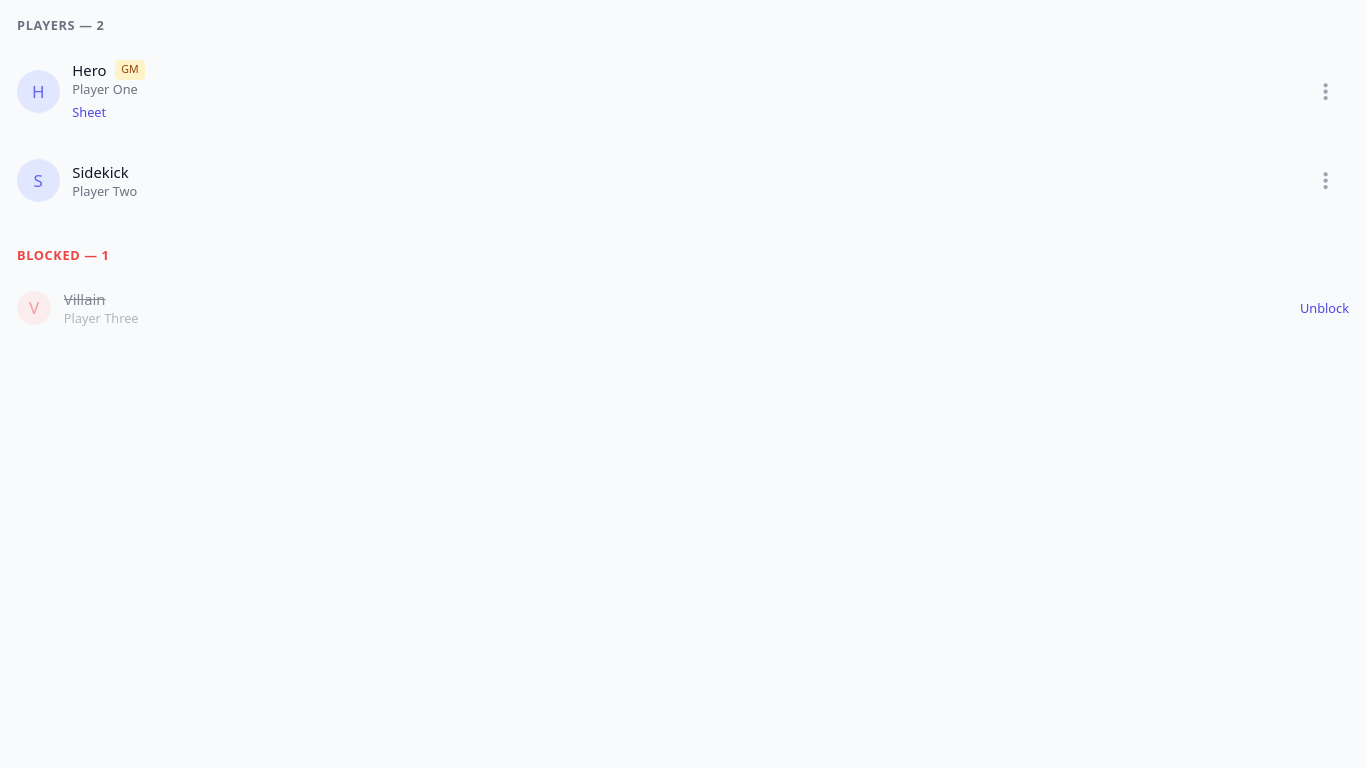
Test: MemberList › does not block when the confirmation is cancelled
Click the button with test id "menu-btn-m2" at (1326, 181), box [1302, 157, 1349, 204]
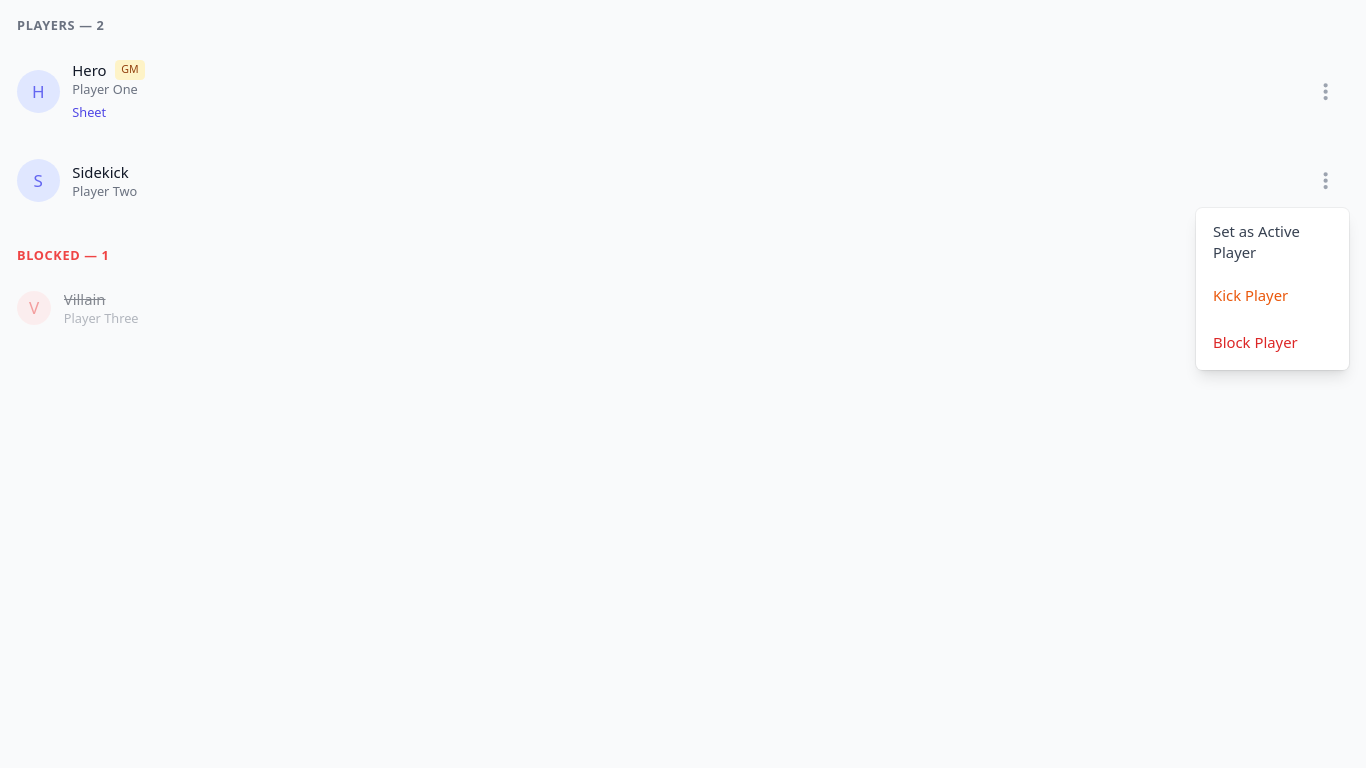
Click the menu item "Block Player" at (1272, 342), box [1196, 319, 1349, 366]
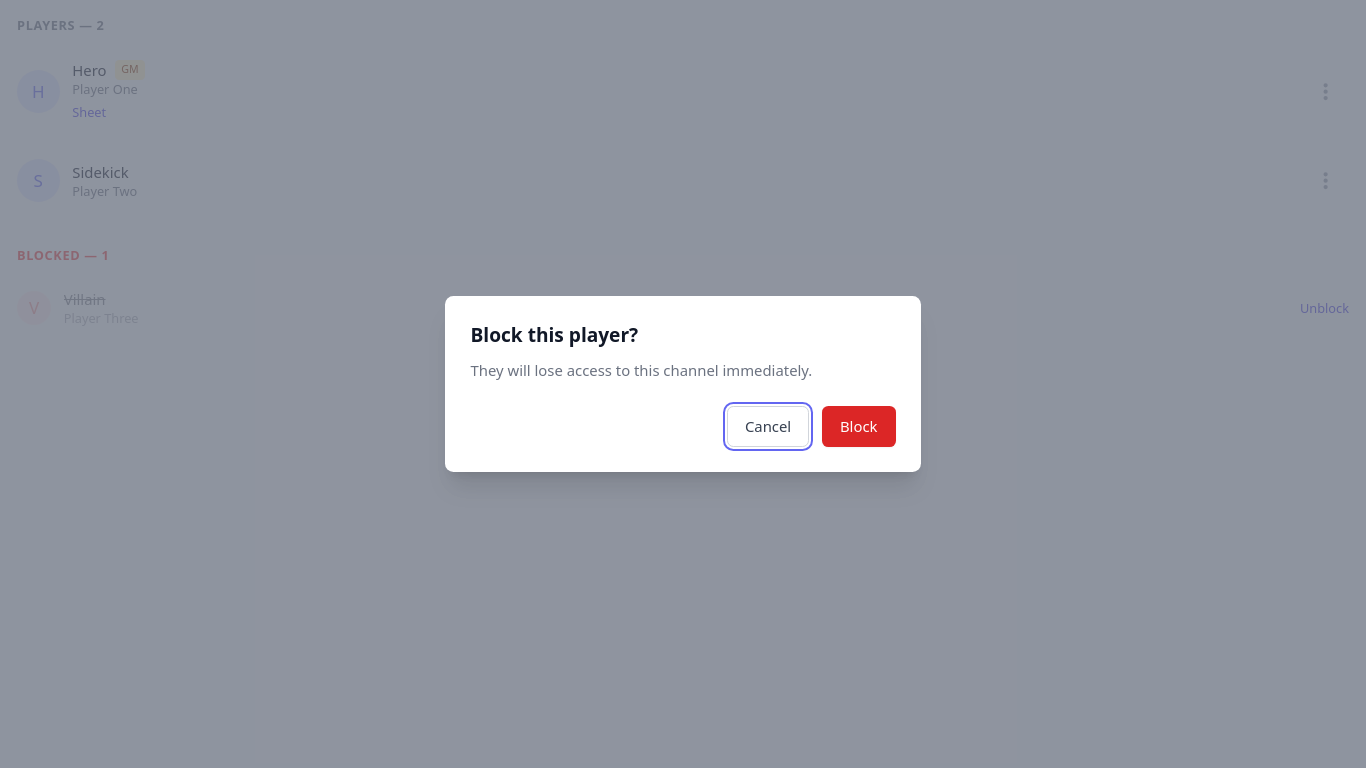
Click the button "Cancel" at (768, 427), box [727, 406, 809, 447]
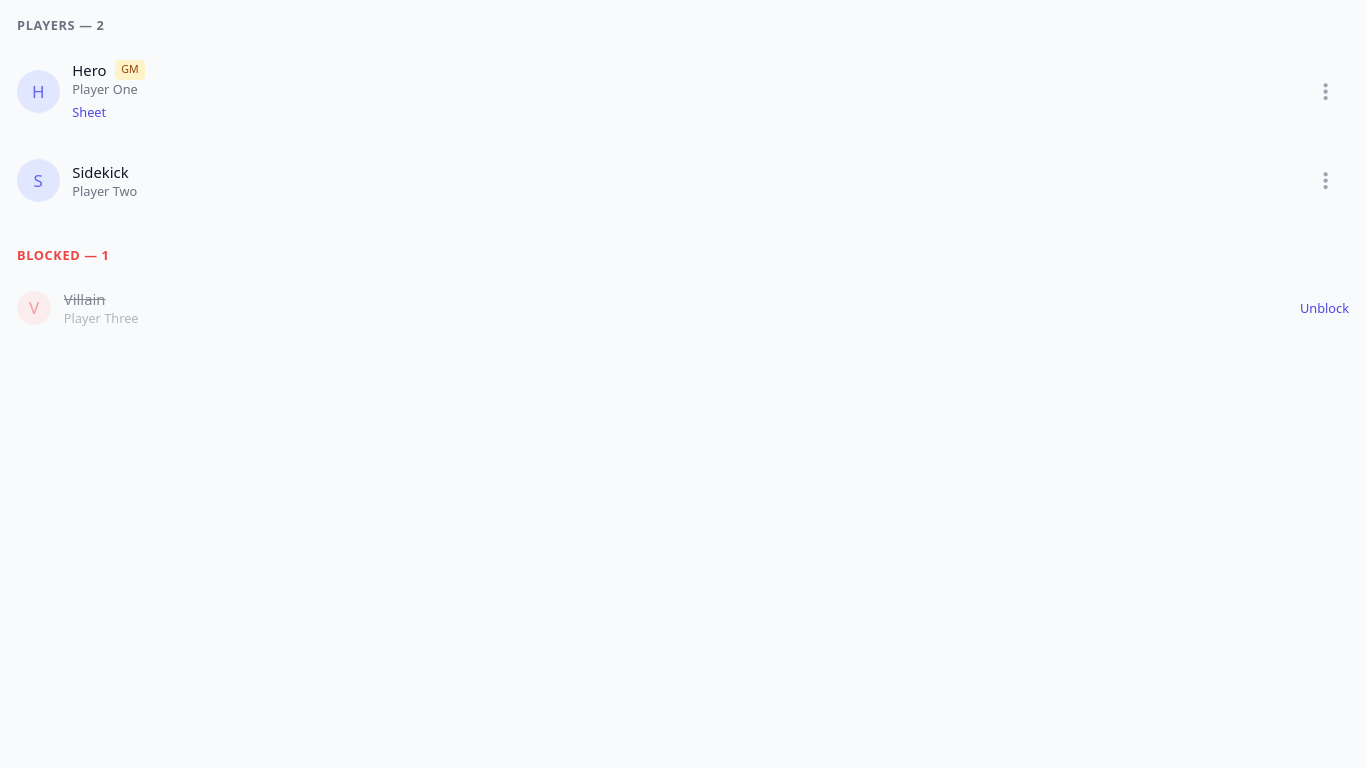
Result: the heading "Block this player?" is gone
